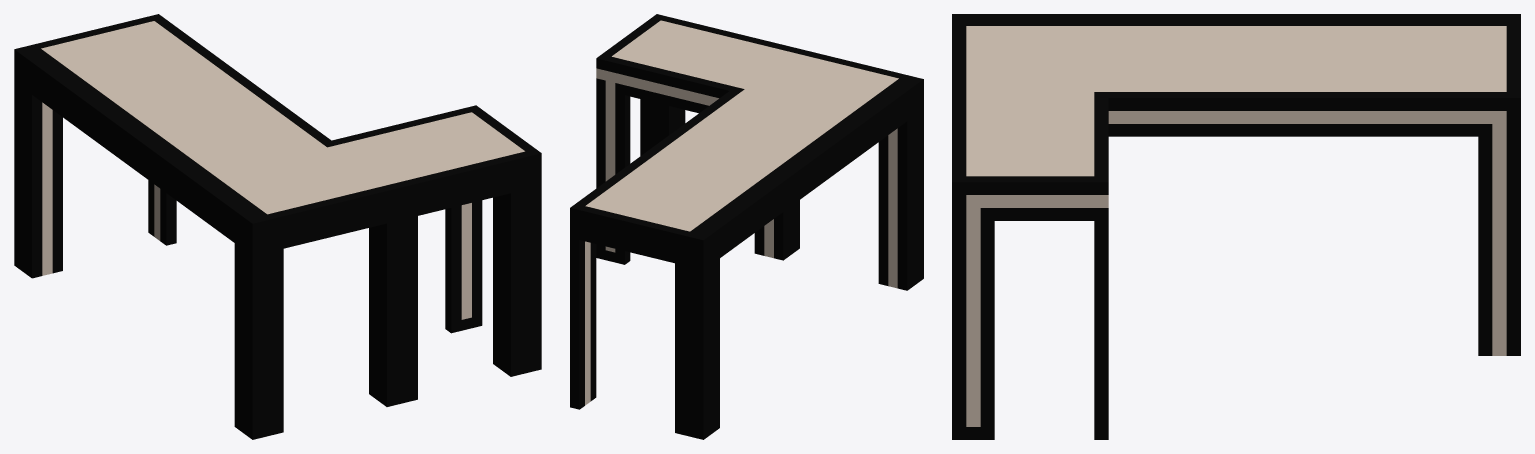
Rendered from worktable3.obj.
The picture shows the model from 3 angles, left to right: view 1: azimuth 30°, elevation 25°; view 2: azimuth 150°, elevation 25°; view 3: azimuth 270°, elevation 25°; orthographic projection. The views are drawn at different scales.
Bounding box in the file's own units: 2.8 × 2 × 4.
Materials: 1 (1 with a texture image).
